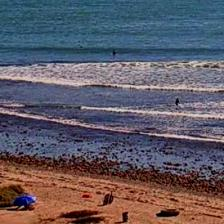surfer: (112, 50, 116, 55)
